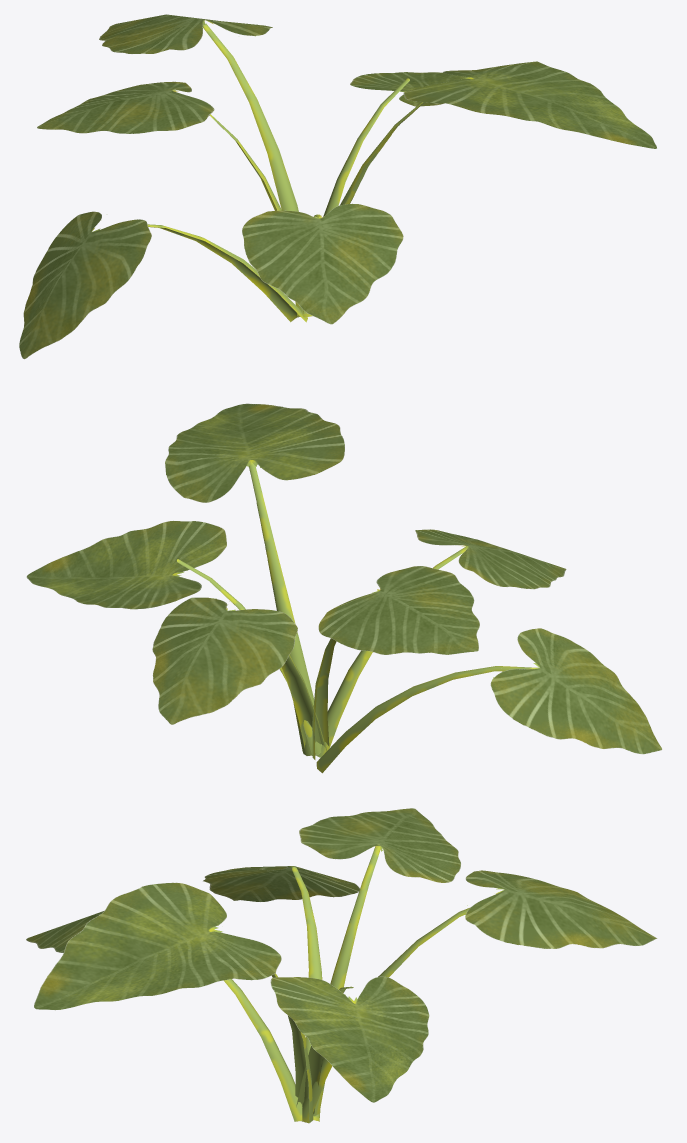
Rendered from Plant_3.fbx.
3 renders of one model, top to bottom at view 1: azimuth 30°, elevation 25°; view 2: azimuth 150°, elevation 25°; view 3: azimuth 270°, elevation 25°, orthographic. The views are drawn at different scales.
Parts seen in each view (by area): view 1: Plant_3; view 2: Plant_3; view 3: Plant_3.
Part boxes in pixels (x1,y1,x2,y2): Plant_3: (19, 14, 656, 359); Plant_3: (26, 403, 662, 773); Plant_3: (26, 808, 657, 1123).
Bounding box in the file's own units: 222 × 94.99 × 206.
1 material, 1 textured.
